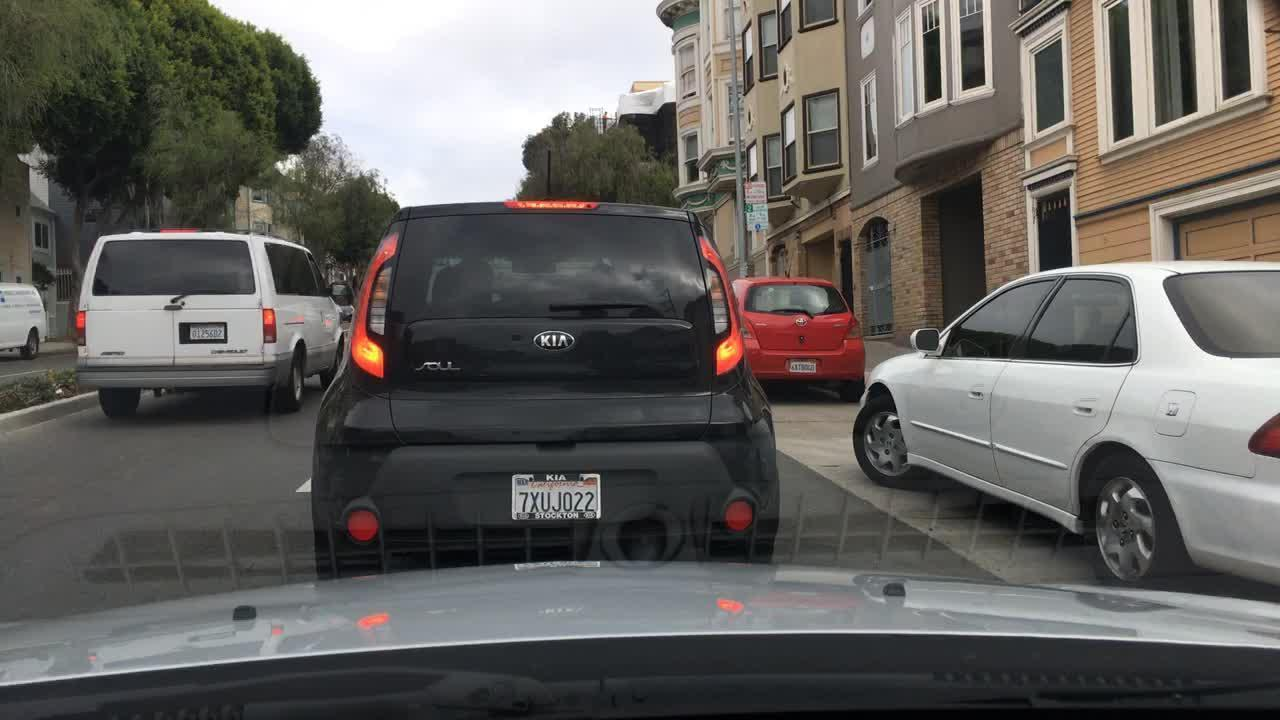kia: (510, 322, 597, 363)
